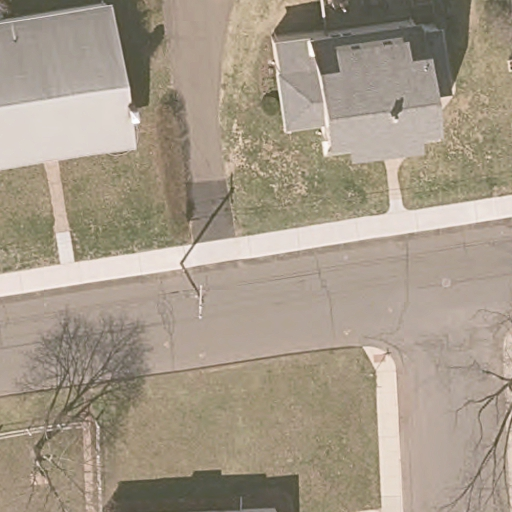DT: (180, 261, 208, 320)
